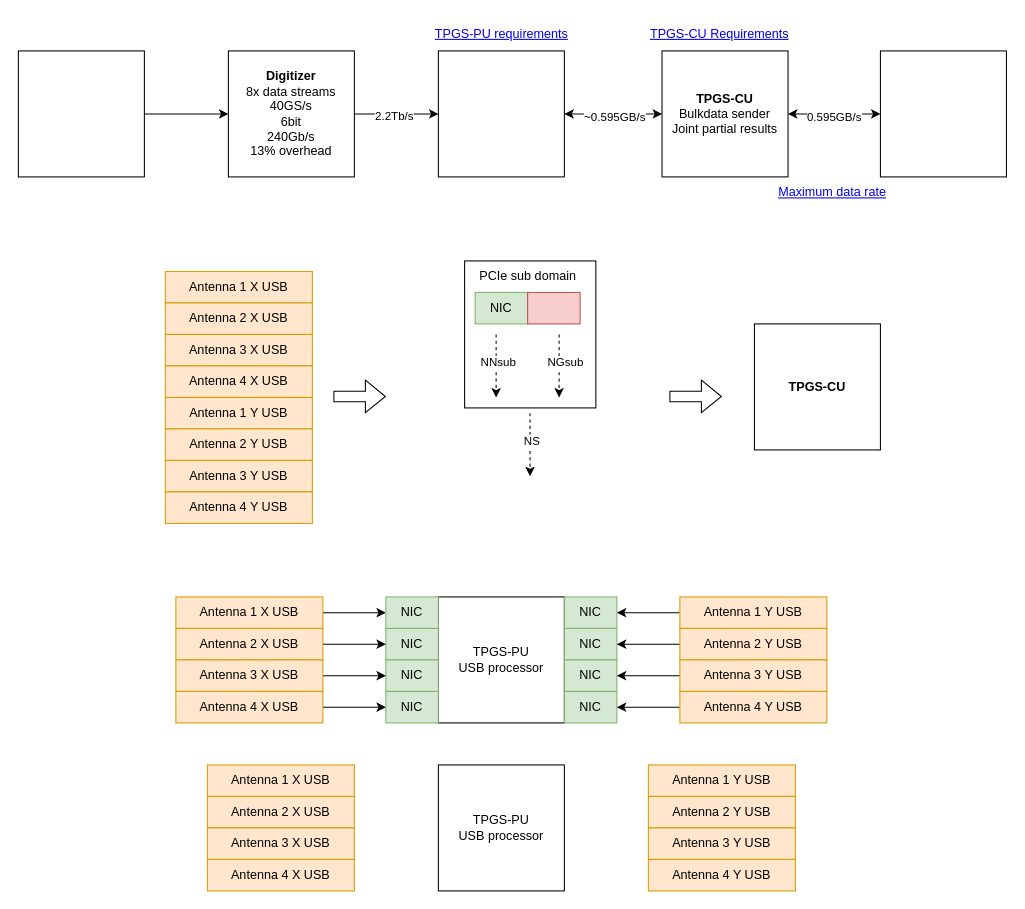
The diagram is 1025 pixels wide and 909 high, and some of its shapes have lost their labels. The centre of each missing label's shape, as x and y in pixels:
"Antenna 4 elements 2 polarizations 2 side bands" belongs at pixel 80 113.
"ARCHIVE Bulkdata receiver" belongs at pixel 942 113.
"GPU" belongs at pixel 553 307.
"TPGS-PU 2 SB processor" belongs at pixel 500 113.
